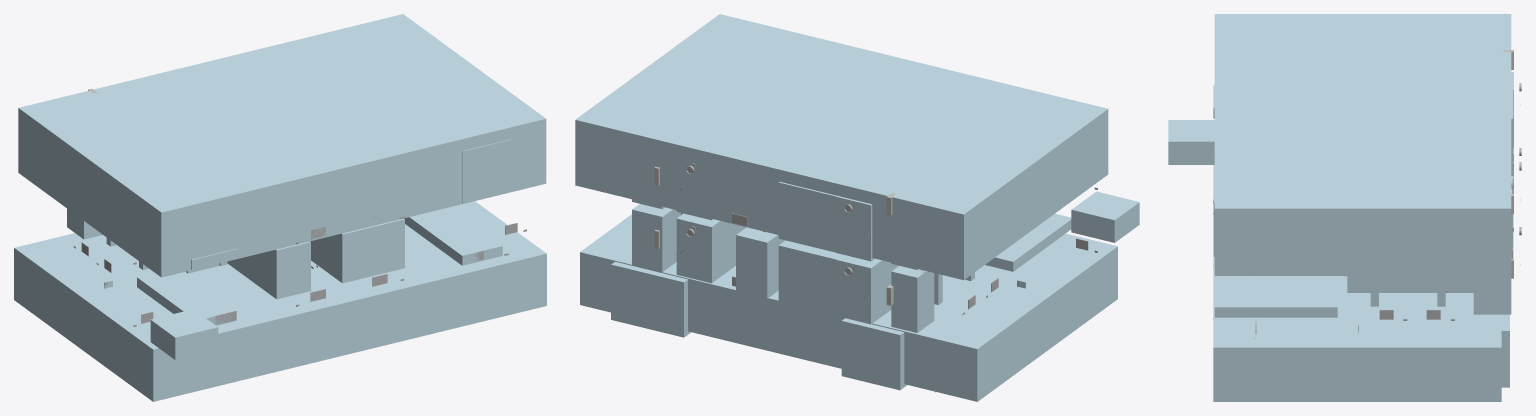
3 renders of one model, left to right at view 1: azimuth 30°, elevation 25°; view 2: azimuth 150°, elevation 25°; view 3: azimuth 270°, elevation 25°, orthographic. The views are drawn at different scales.
Visible parts, largest first — view 1: 1ufQAGx71FPA7IqNDDJgVR, 3bUT2ghKLFxR37$x93VHGY, 0nScfNko1AM999BDV_lSPJ, 3FC728dBbCQu9I8FeArrHZ, 19oBEzIr12XQFWDJIclsZ3, 1JcbQ_pm18Yx8y9S1ghHwU, 3LWdBS0DjBuRX3lmL56Y_E, 0LX8AkxeD4eRCRe20XuWLu, 1EG6LaBJT8K9WTLOndlLo3, 1E2pEAUpb5w913BC$RrDbI, 2lY2UPRe9BLAruseagLRrf, 1ODBe0UFj6HfOy3ub4EnuQ; view 2: 1ufQAGx71FPA7IqNDDJgVR, 3bUT2ghKLFxR37$x93VHGY, 0PAiT6qmjFg8SZLfCyqjNa, 26QbFcMFPEzewtN57L2wom, 2hDgAYsij4hPHTuau09DZj, 1bvAMtgIjD6OjyyTaC_0Eq, 3mr1cn8pr0bxbcvBV3d1UY, 3kkqZAFAfC_e_J0xZ_lYH7, 3LlwXy$TfFJO8RN58fKhkc, 2Kaneqo5r9n9CXPmzpqxHH, 0LX8AkxeD4eRCRe20XuWLu, 2lY2UPRe9BLAruseagLRrf (+2 smaller); view 3: 1ufQAGx71FPA7IqNDDJgVR, 3bUT2ghKLFxR37$x93VHGY, 3FC728dBbCQu9I8FeArrHZ, 0LX8AkxeD4eRCRe20XuWLu, 1bvAMtgIjD6OjyyTaC_0Eq, 2Kaneqo5r9n9CXPmzpqxHH, 1E2pEAUpb5w913BC$RrDbI, 0PAiT6qmjFg8SZLfCyqjNa, 1Va7KA13P9dg4_ReJZYetD.
Part boxes in pixels (x1,y1,x2,y2): 1ufQAGx71FPA7IqNDDJgVR: [18, 14, 546, 277]; 3bUT2ghKLFxR37$x93VHGY: [14, 201, 546, 401]; 0nScfNko1AM999BDV_lSPJ: [310, 218, 404, 283]; 3FC728dBbCQu9I8FeArrHZ: [404, 207, 502, 265]; 19oBEzIr12XQFWDJIclsZ3: [227, 241, 310, 299]; 1JcbQ_pm18Yx8y9S1ghHwU: [137, 272, 236, 325]; 3LWdBS0DjBuRX3lmL56Y_E: [462, 139, 511, 203]; 0LX8AkxeD4eRCRe20XuWLu: [150, 309, 218, 359]; 1EG6LaBJT8K9WTLOndlLo3: [226, 271, 306, 310]; 1E2pEAUpb5w913BC$RrDbI: [406, 229, 506, 273]; 2lY2UPRe9BLAruseagLRrf: [67, 208, 102, 239]; 1ODBe0UFj6HfOy3ub4EnuQ: [191, 248, 237, 269]; 1ufQAGx71FPA7IqNDDJgVR: [575, 14, 1108, 280]; 3bUT2ghKLFxR37$x93VHGY: [580, 214, 1117, 401]; 0PAiT6qmjFg8SZLfCyqjNa: [611, 261, 691, 337]; 26QbFcMFPEzewtN57L2wom: [841, 318, 906, 390]; 2hDgAYsij4hPHTuau09DZj: [778, 240, 845, 315]; 1bvAMtgIjD6OjyyTaC_0Eq: [676, 213, 746, 283]; 3mr1cn8pr0bxbcvBV3d1UY: [778, 182, 839, 252]; 3kkqZAFAfC_e_J0xZ_lYH7: [836, 255, 898, 324]; 3LlwXy$TfFJO8RN58fKhkc: [736, 227, 784, 298]; 2Kaneqo5r9n9CXPmzpqxHH: [632, 204, 680, 272]; 0LX8AkxeD4eRCRe20XuWLu: [1071, 191, 1139, 242]; 2lY2UPRe9BLAruseagLRrf: [891, 265, 934, 332]; 1ufQAGx71FPA7IqNDDJgVR: [1214, 14, 1511, 275]; 3bUT2ghKLFxR37$x93VHGY: [1213, 165, 1501, 401]; 3FC728dBbCQu9I8FeArrHZ: [1214, 287, 1337, 317]; 0LX8AkxeD4eRCRe20XuWLu: [1168, 120, 1214, 164]; 1bvAMtgIjD6OjyyTaC_0Eq: [1347, 276, 1473, 292]; 2Kaneqo5r9n9CXPmzpqxHH: [1473, 276, 1511, 314]; 1E2pEAUpb5w913BC$RrDbI: [1213, 305, 1337, 327]; 0PAiT6qmjFg8SZLfCyqjNa: [1501, 314, 1509, 387]; 1Va7KA13P9dg4_ReJZYetD: [1232, 276, 1334, 281].
Size of the model in its own units: 18.36 by 8.47 by 13.78.
